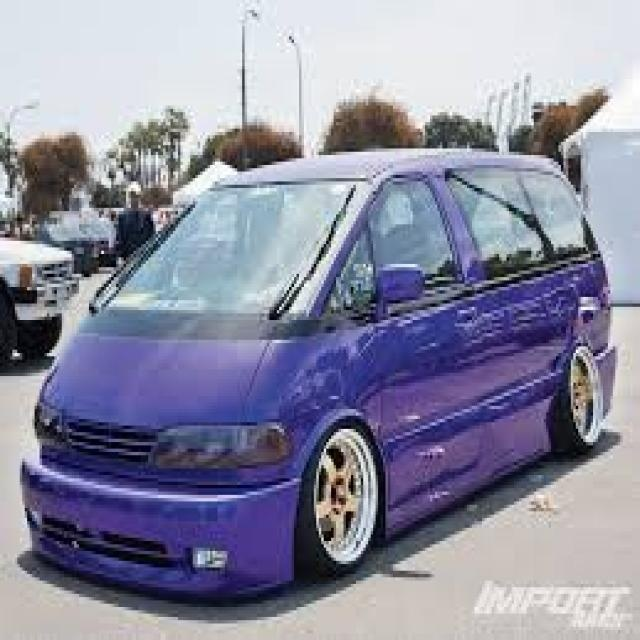Van: (10, 145, 610, 604)
